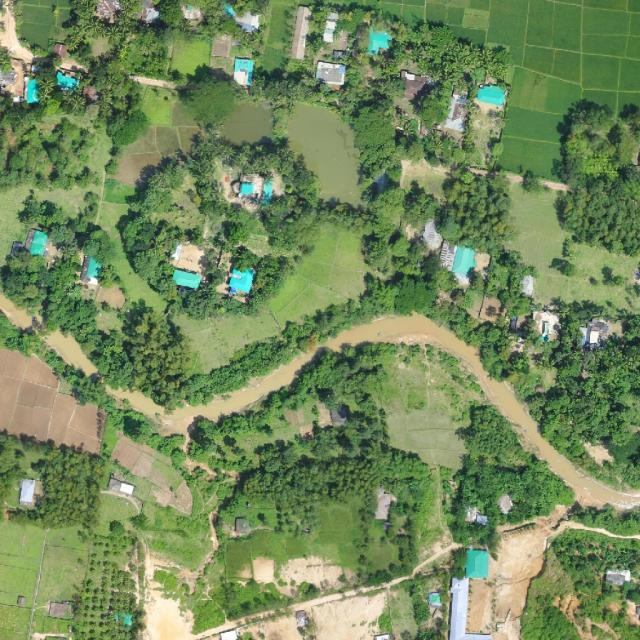agricultural_land: (162, 216, 384, 378), (505, 183, 640, 309), (263, 216, 388, 352), (0, 521, 88, 640), (100, 105, 206, 192), (286, 100, 363, 210), (108, 137, 164, 192), (18, 0, 69, 49), (222, 102, 273, 147), (171, 38, 212, 78), (142, 86, 174, 126), (156, 126, 181, 157), (171, 101, 198, 128)
building: (449, 578, 491, 639), (432, 236, 482, 283), (290, 5, 313, 60), (579, 318, 611, 347), (228, 266, 255, 298), (366, 28, 394, 58), (464, 549, 489, 580), (51, 71, 81, 95), (476, 83, 507, 106), (317, 61, 345, 84), (172, 268, 202, 289), (81, 255, 102, 285), (321, 11, 340, 44), (233, 57, 254, 86), (107, 477, 136, 497), (29, 230, 49, 258), (18, 479, 35, 506), (24, 78, 40, 104), (605, 570, 631, 586), (262, 177, 274, 203), (181, 5, 203, 19), (237, 181, 254, 197), (235, 518, 251, 535)
dryland: (310, 592, 391, 640), (145, 590, 192, 639), (263, 616, 302, 640)
greenland: (162, 333, 453, 621), (172, 270, 405, 413), (411, 383, 577, 551), (360, 334, 497, 475), (92, 295, 215, 414), (555, 99, 640, 254), (521, 530, 640, 639), (11, 173, 130, 268), (389, 13, 517, 98), (425, 282, 529, 384), (246, 160, 347, 264), (96, 389, 197, 471), (82, 47, 155, 157), (0, 105, 96, 188), (435, 168, 518, 256), (111, 209, 187, 301), (135, 503, 218, 572), (75, 554, 138, 639), (245, 66, 314, 143), (178, 130, 238, 218), (235, 246, 297, 323), (130, 149, 190, 222), (349, 102, 403, 179), (82, 325, 140, 396), (482, 247, 539, 318), (458, 101, 509, 171), (56, 363, 115, 413), (209, 202, 261, 257), (394, 179, 445, 234), (0, 310, 46, 366), (88, 516, 138, 565), (178, 456, 227, 505), (233, 139, 295, 177), (119, 30, 168, 78), (176, 280, 226, 326), (392, 274, 440, 321), (93, 493, 139, 540), (315, 195, 369, 234), (189, 80, 234, 126), (369, 187, 409, 238), (353, 105, 396, 151), (417, 79, 451, 130), (194, 176, 231, 220), (419, 127, 461, 165), (192, 599, 225, 633), (428, 264, 460, 297), (373, 75, 407, 102), (365, 239, 390, 273), (402, 138, 430, 166), (204, 249, 218, 273)
unmetalled_road: (324, 279, 640, 527), (175, 351, 319, 434), (44, 325, 101, 380), (0, 295, 35, 332)
